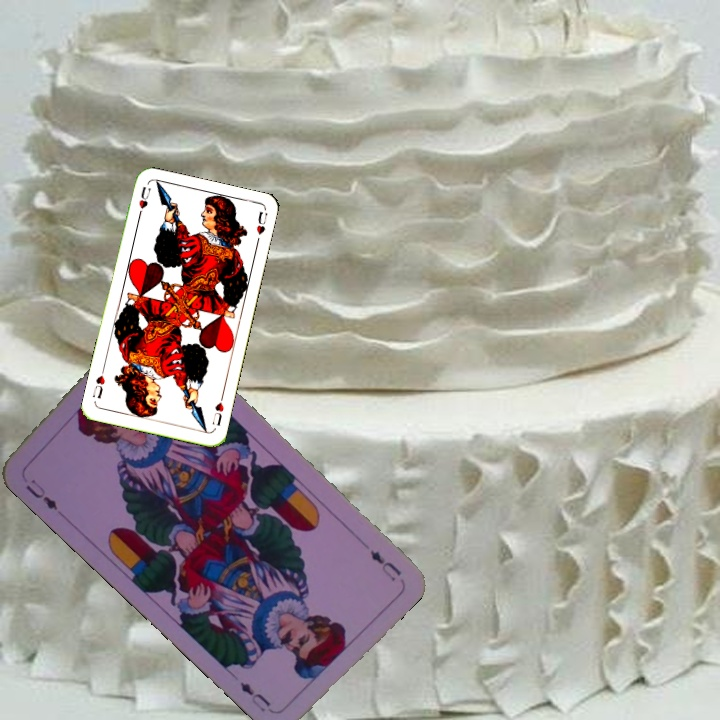EU: (22, 474, 61, 513), (366, 546, 404, 585)
HU: (134, 182, 153, 221), (208, 392, 226, 428)
